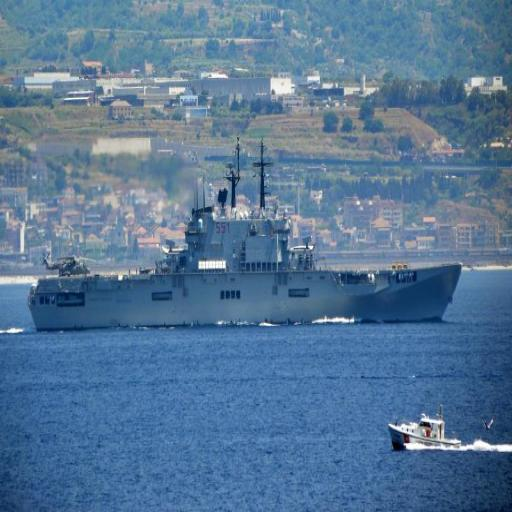Portanaves: (26, 140, 468, 328)
